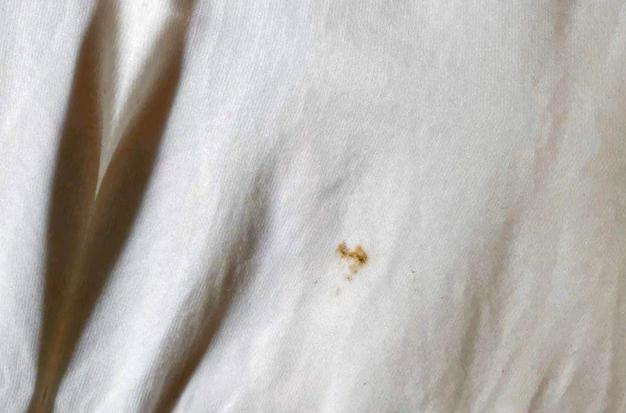stain: (333, 232, 372, 292)
